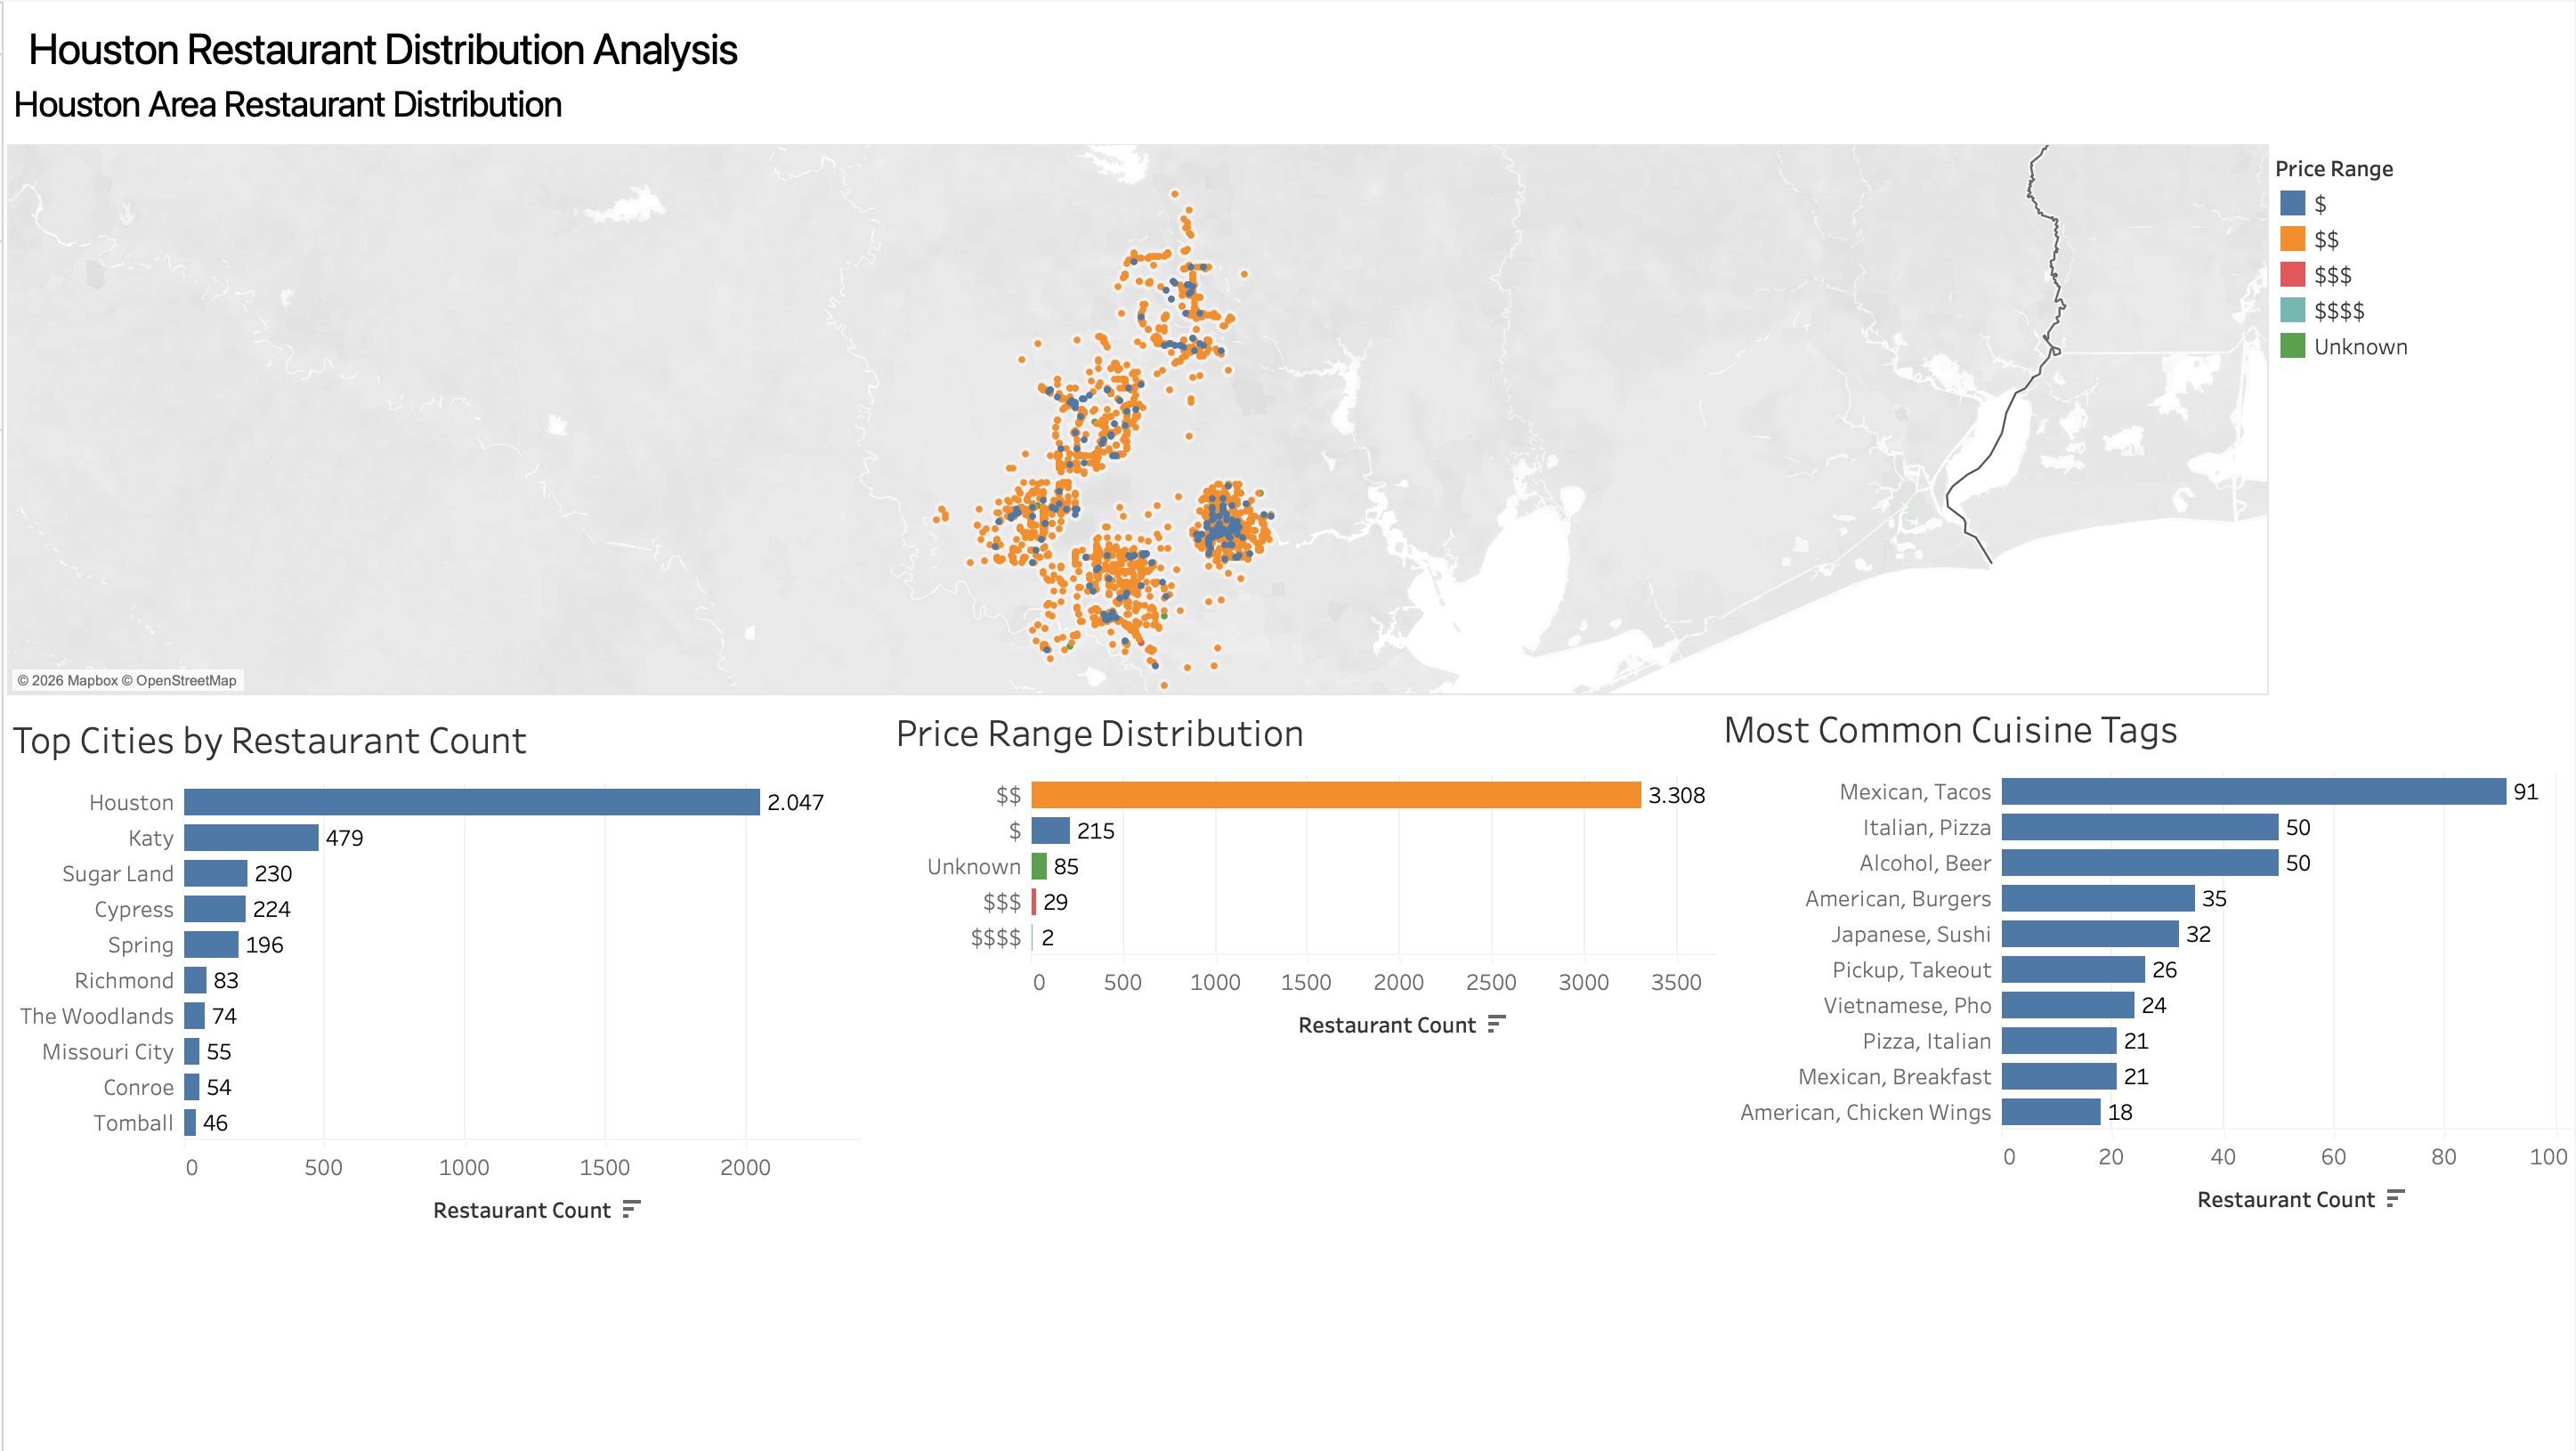

The dashboard page shown, as its layout file describes it:
{"tool":"tableau","page":{"name":"Dashboard 1","canvas":[1000,1000],"units":"permille","ordinal":0},"visuals":[{"type":"title","box":[5.5,9.7,988.9,44.7]},{"type":"worksheet","title":"Restaurant Location Map","mark":"Circle","rows":["latitude"],"cols":["longitude"],"box":[1.6,49.6,880.1,421.5]},{"type":"legend","title":"Restaurant Location Map","param":"[federated.1seykw91gxxyz01btu82t13ofr3n].[none:price_range:nk]","box":[883.4,103.3,112.6,162.5]},{"type":"worksheet","title":"Most Common Cuisine Tags","mark":"Automatic","rows":["cuisine_tags"],"cols":["restaurant_count"],"box":[666.1,471.1,333.1,522]},{"type":"worksheet","title":"Price Range Distribution","mark":"Automatic","rows":["price_range"],"cols":["restaurant_count"],"box":[344.3,473.8,333.1,523.4]},{"type":"worksheet","title":"Top Cities by Restaurant Count","mark":"Automatic","rows":["city"],"cols":["restaurant_count"],"box":[0.8,479.3,333.1,517.9]}]}

Visuals, with their boxes on the dashboard's canvas, which has no fixed pixel size, in thousandths of its width and height (x1, y1, x2, y2). These are canvas units, not pixel positions in the 2576x1451 screenshot, which may show the page scaled, cropped or inside an application window:
title: bbox=(6, 10, 994, 54)
"Restaurant Location Map" worksheet (Circle marks): bbox=(2, 50, 882, 471)
"Restaurant Location Map" legend: bbox=(883, 103, 996, 266)
"Most Common Cuisine Tags" worksheet: bbox=(666, 471, 999, 993)
"Price Range Distribution" worksheet: bbox=(344, 474, 677, 997)
"Top Cities by Restaurant Count" worksheet: bbox=(1, 479, 334, 997)
